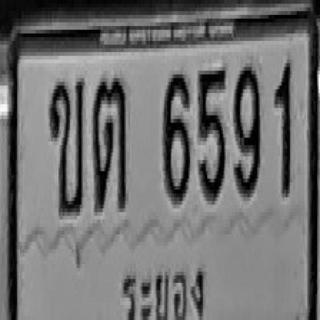A02: (49, 78, 84, 216)
A21: (92, 76, 126, 210)
N01: (274, 61, 291, 195)
N05: (198, 67, 225, 201)
N06: (163, 71, 190, 201)
N09: (233, 63, 260, 197)
P53: (117, 252, 207, 320)
